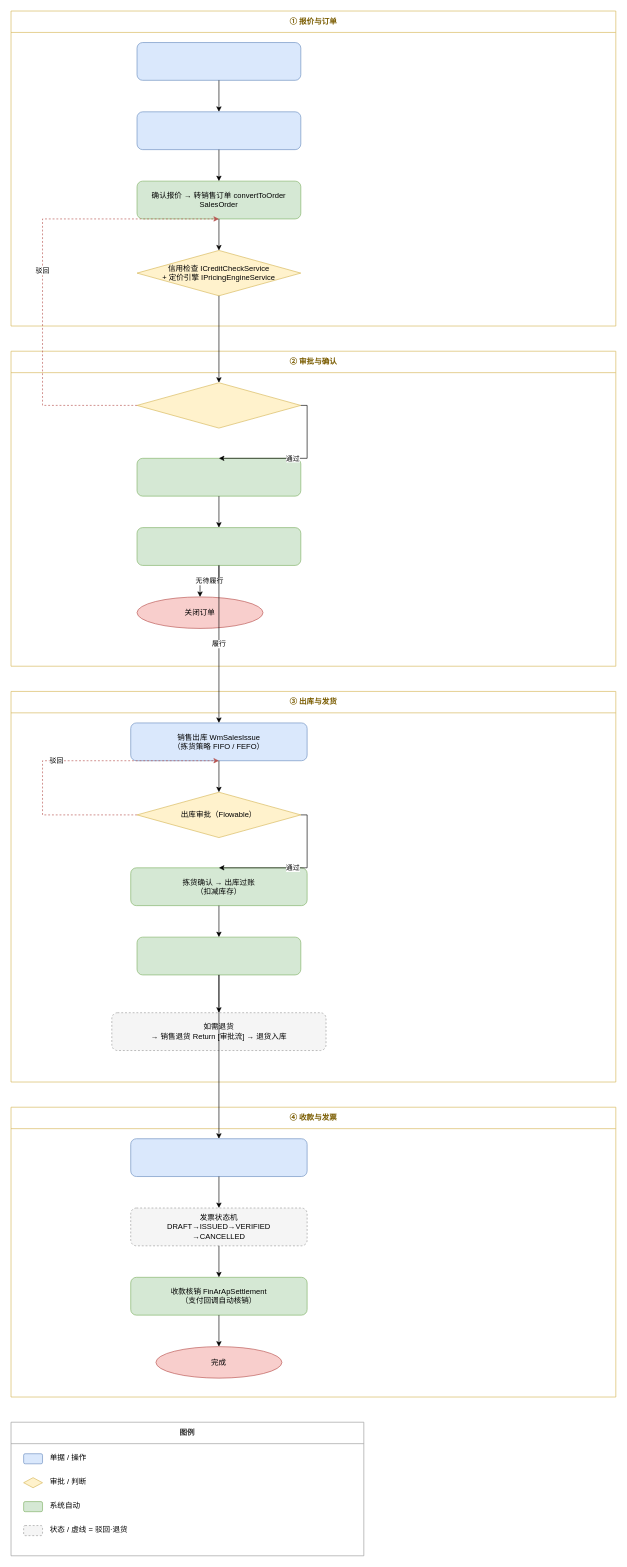
Image size: 627x1567. Some labels were removed from this diagram. The centre of each missing label's shape, as x and y in pixels:
"创建报价单 Quotation 价格引擎自动取价 + 折扣" goes at point (218, 130).
"客户订单 / 询价 CustomerOrder" goes at point (218, 61).
"提交 Flowable 审批" goes at point (218, 405).
"物流安排 → 发货确认" goes at point (218, 955).
"确认订单 （信用额度冻结 + 库存预留）" goes at point (218, 477).
"订单履行 （行级 linkedMoId / linkedPoId）" goes at point (218, 546).
"销售开票 so_invoice （订单履行事件自动生成草稿）" goes at point (218, 1157).
